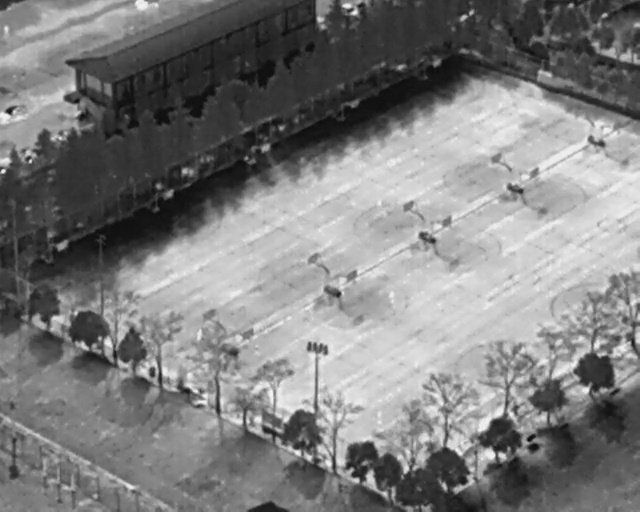Car: (0, 102, 27, 126)
Person: (194, 326, 203, 343), (388, 288, 395, 306), (375, 409, 384, 423), (375, 198, 383, 211)
